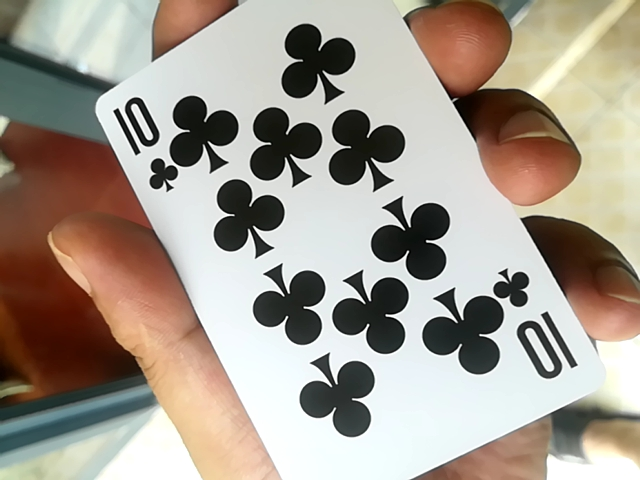mh 10: (79, 8, 604, 475)
